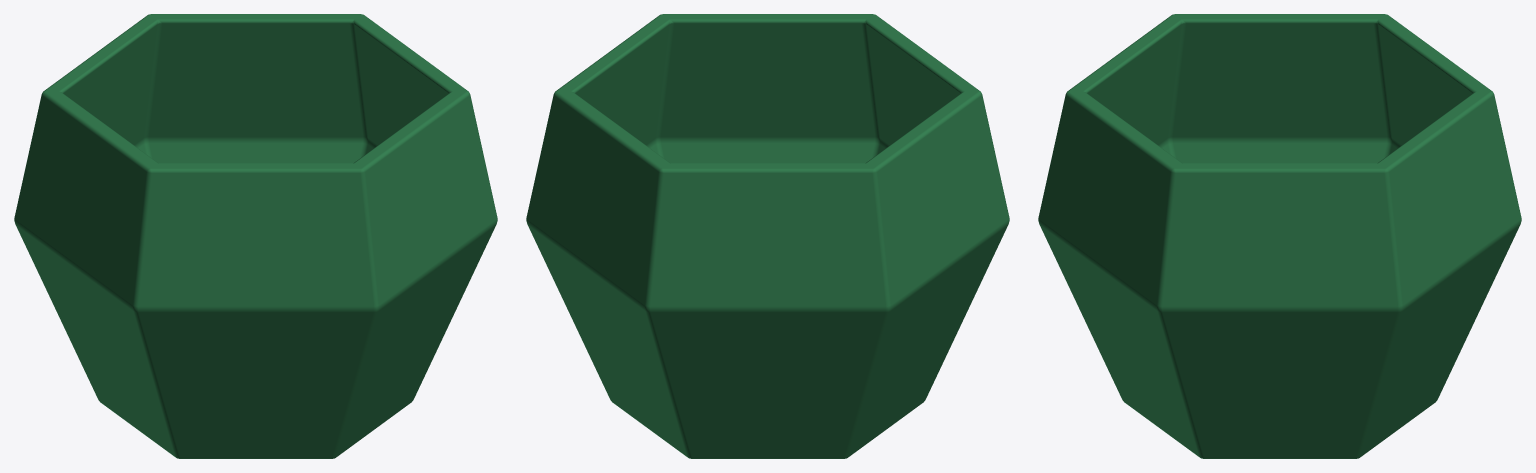
Rendered from planter.glb.
3 views of the same model, side by side, from view 1: azimuth 30°, elevation 25°; view 2: azimuth 150°, elevation 25°; view 3: azimuth 270°, elevation 25° (orthographic).
Visible parts, largest first — view 1: Planter; view 2: Planter; view 3: Planter.
Boxes of the visible parts, left/top/right/bottom form: Planter: left=14, top=14, right=497, bottom=458; Planter: left=526, top=14, right=1009, bottom=458; Planter: left=1038, top=14, right=1521, bottom=458.
Size of the model in its own units: 0.0587 by 0.048 by 0.0675.
